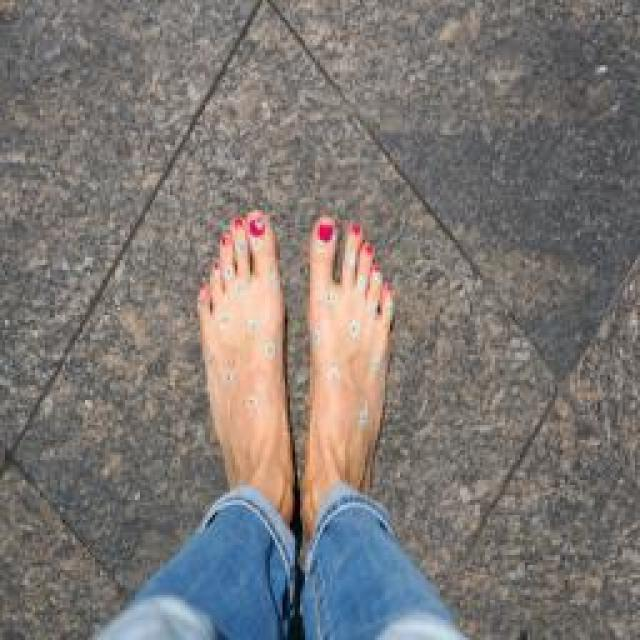No_Shoes: (299, 208, 414, 512), (178, 213, 283, 515)
